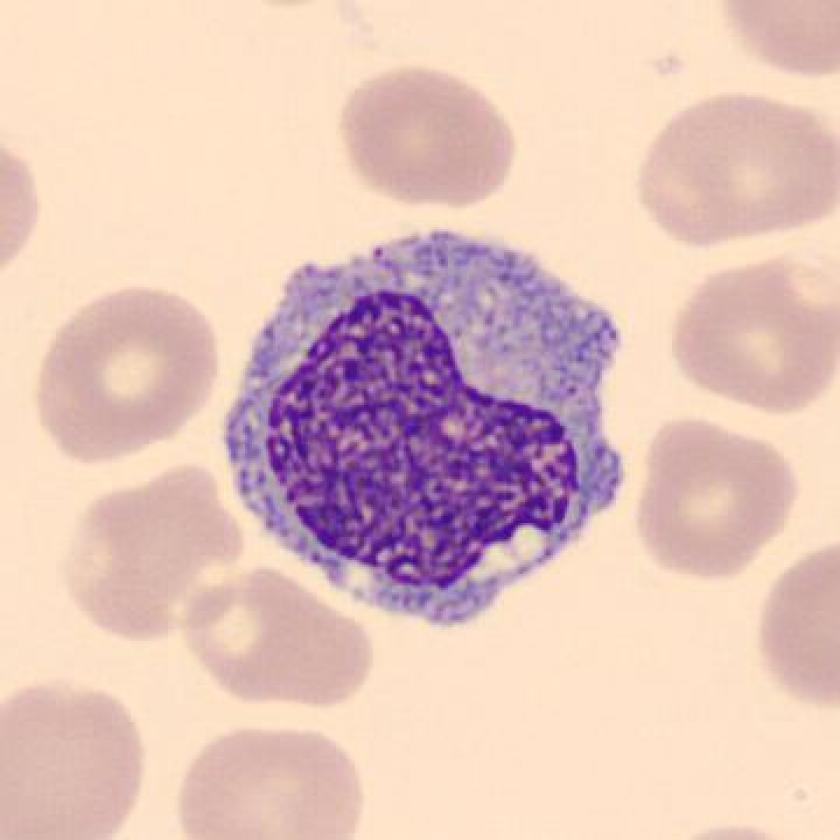monocyte: (207, 207, 648, 644)
